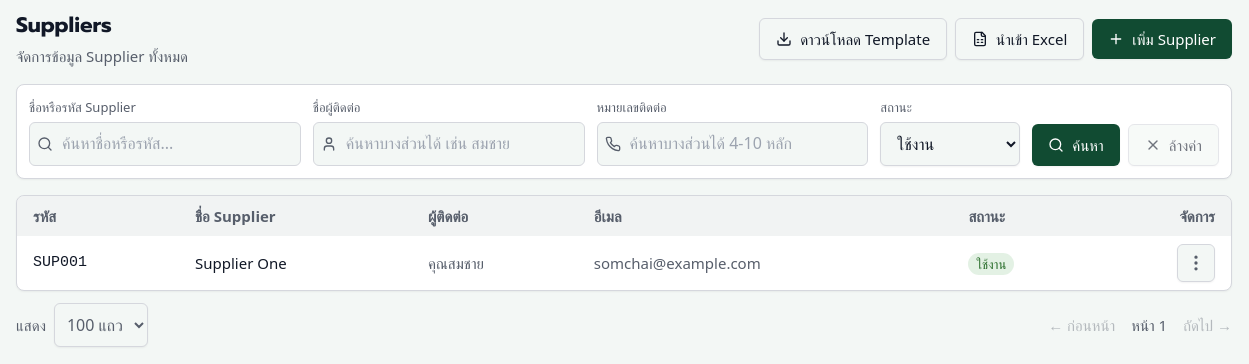
Test: Suppliers — contact and status filters (round 8-20D) › caps the contact-number box at 10 digits
Expected: the text "SUP001" is shown, [17,236,179,290]
In the field labelled "หมายเลขติดต่อ": (732, 144) [597,122,868,166], type "08123456789012"
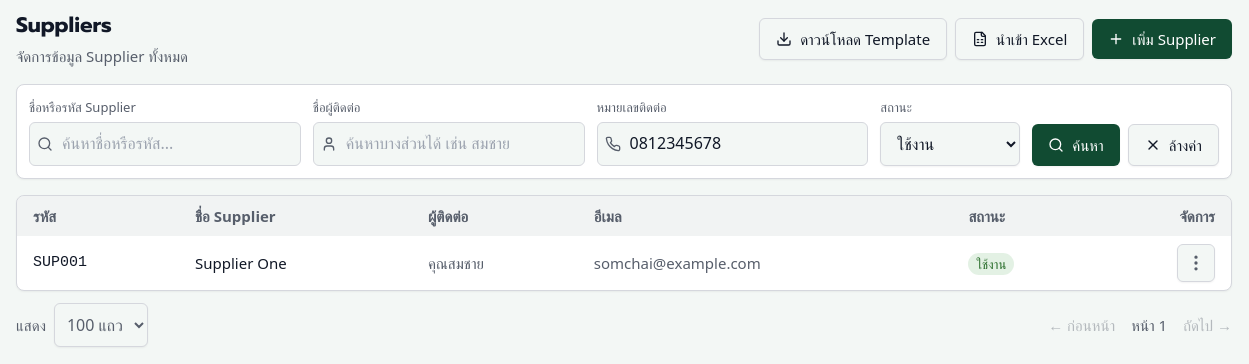
Now the field labelled "หมายเลขติดต่อ" holds "0812345678", box [597,122,868,166]
